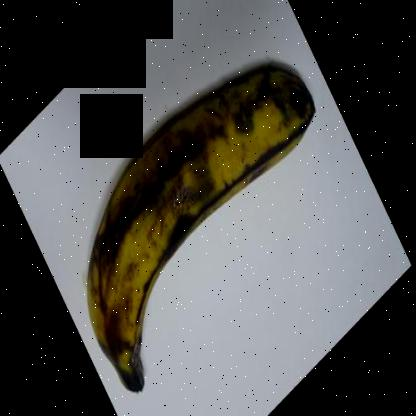overripe: (75, 59, 321, 403)
